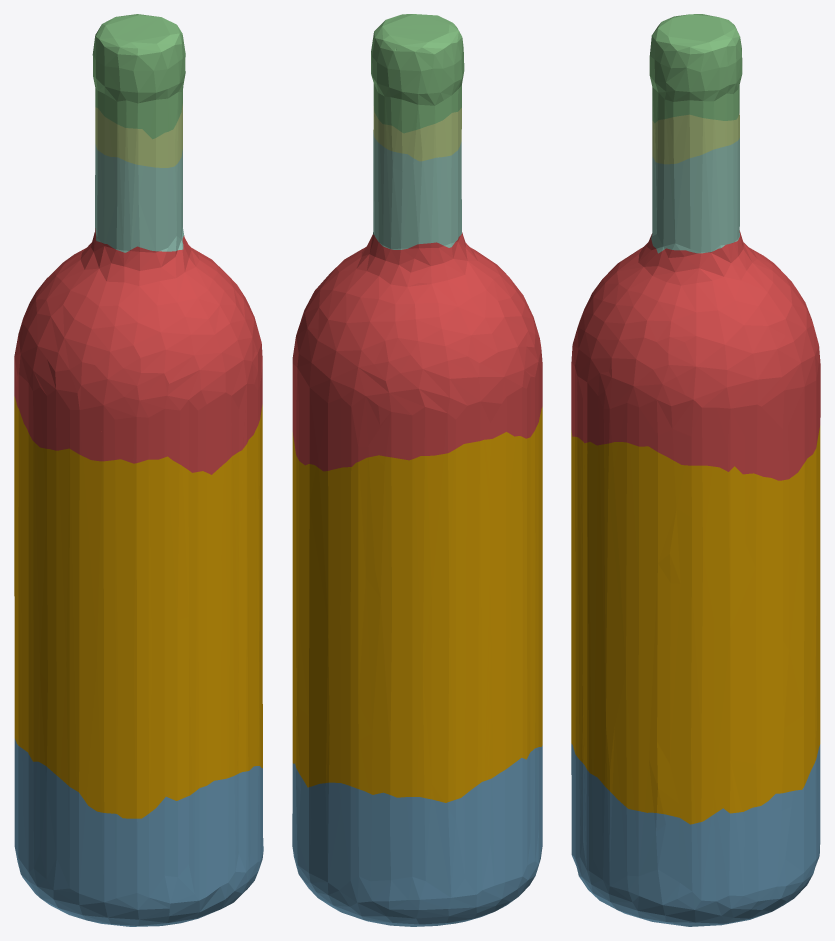
Rendered from fractured_78_6pcs.glb.
3 renders of one model, left to right at view 1: azimuth 30°, elevation 25°; view 2: azimuth 150°, elevation 25°; view 3: azimuth 270°, elevation 25°, orthographic.
Visible parts, largest first — view 1: piece_0.obj, piece_1.obj, piece_2.obj, piece_3.obj, piece_4.obj, piece_5.obj; view 2: piece_0.obj, piece_1.obj, piece_2.obj, piece_3.obj, piece_4.obj, piece_5.obj; view 3: piece_0.obj, piece_1.obj, piece_2.obj, piece_3.obj, piece_4.obj, piece_5.obj.
Part boxes in pixels (left/top/right/bottom): piece_0.obj: left=14, top=396, right=262, bottom=818; piece_1.obj: left=14, top=228, right=262, bottom=474; piece_2.obj: left=14, top=738, right=263, bottom=926; piece_3.obj: left=92, top=14, right=185, bottom=139; piece_4.obj: left=95, top=144, right=183, bottom=252; piece_5.obj: left=95, top=104, right=182, bottom=167; piece_0.obj: left=292, top=407, right=542, bottom=802; piece_1.obj: left=292, top=232, right=542, bottom=471; piece_2.obj: left=292, top=745, right=542, bottom=926; piece_3.obj: left=371, top=14, right=464, bottom=133; piece_4.obj: left=373, top=132, right=461, bottom=249; piece_5.obj: left=373, top=106, right=461, bottom=161; piece_0.obj: left=571, top=426, right=820, bottom=824; piece_1.obj: left=571, top=230, right=820, bottom=480; piece_2.obj: left=571, top=743, right=820, bottom=926; piece_3.obj: left=649, top=14, right=742, bottom=123; piece_4.obj: left=651, top=138, right=739, bottom=253; piece_5.obj: left=652, top=113, right=739, bottom=164.
Size of the model in its own units: 0.2625 by 1 by 0.2625.
